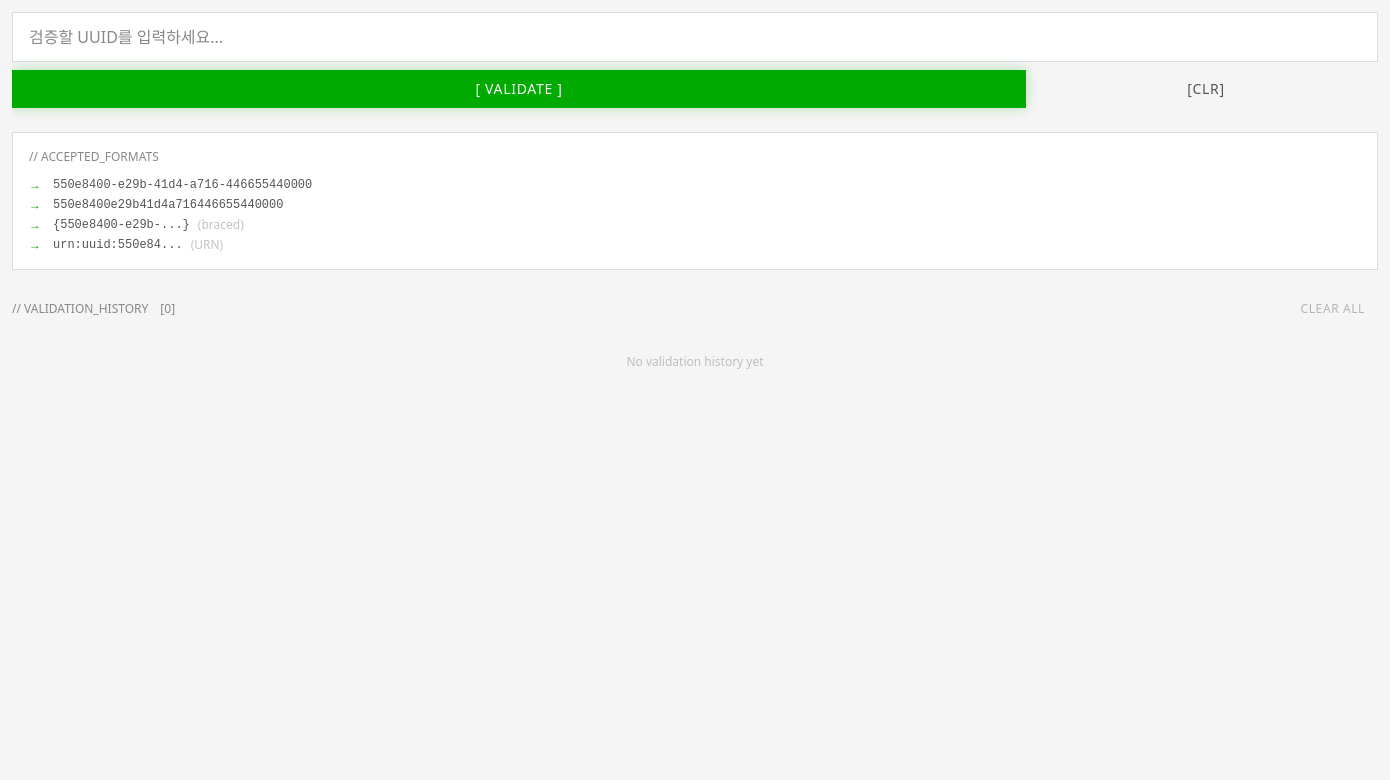
UuidValidator 히스토리 › 히스토리 Clear All 버튼이 동작해야 함
The image size is (1390, 780).
Type "550e8400-e29b-41d4-a716-446655440000" into the field with test id "uuid-input".
click(695, 37); type("550e8400-e29b-41d4-a716-446655440000")  # box 12,12 -> 1378,62
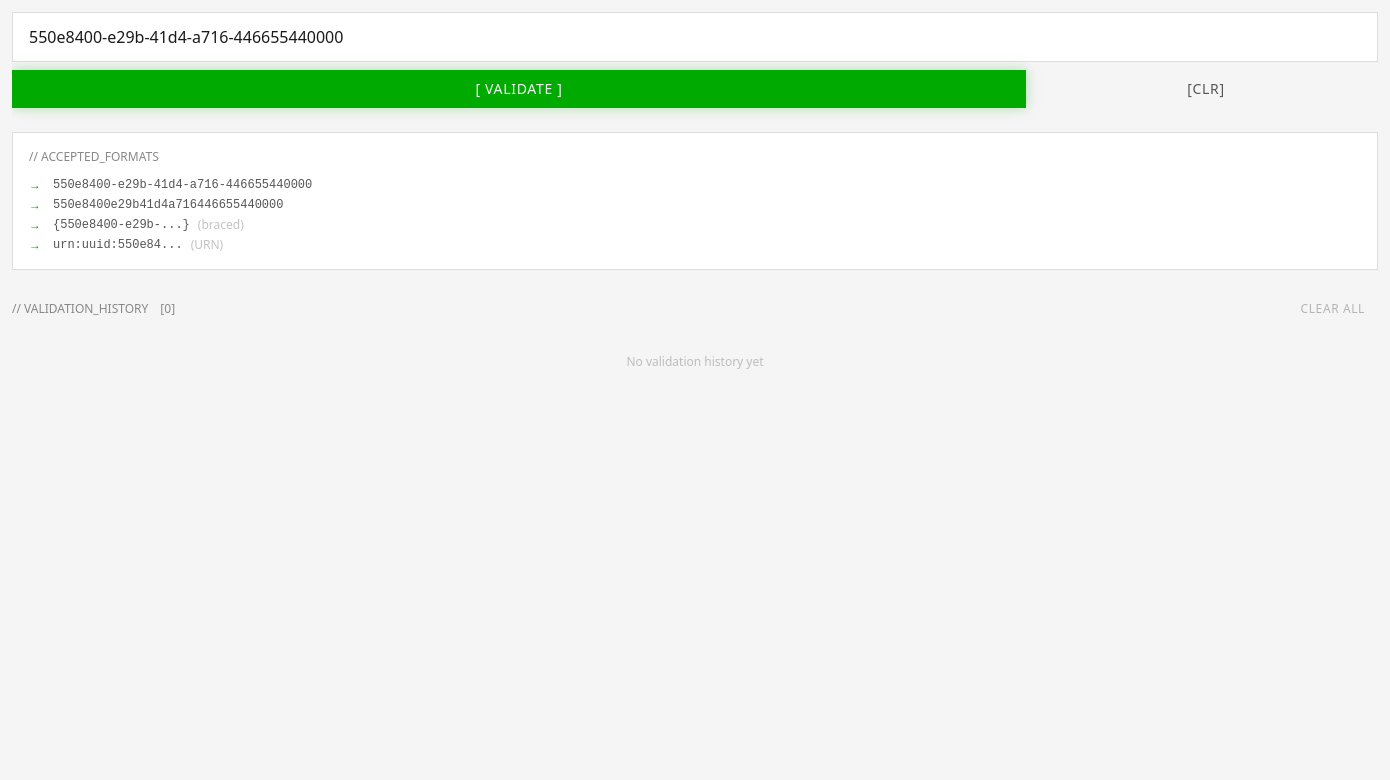
Press Enter in the field with test id "uuid-input", box 12,12 -> 1378,62
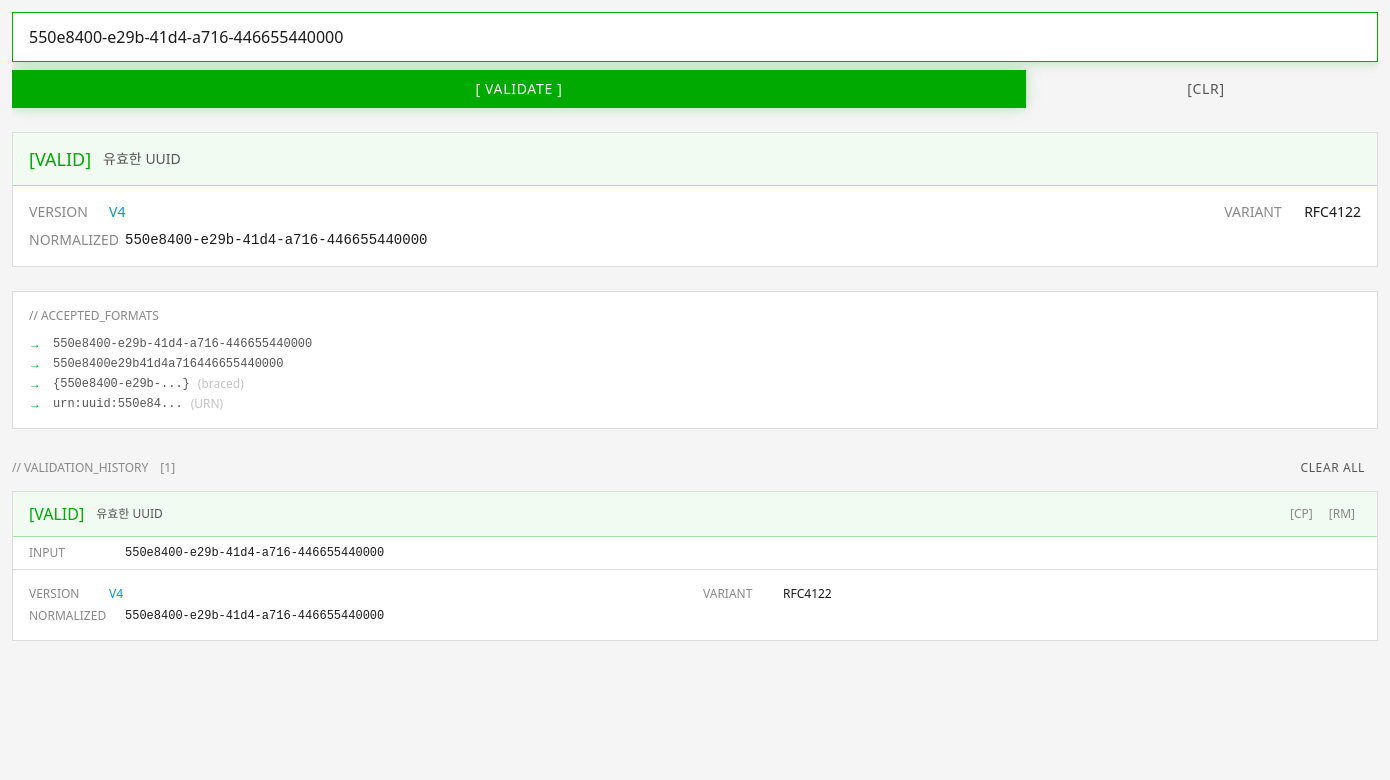
Expected: the text "[1]" is shown, 160,459 -> 175,476
Note: Clear All 버튼 클릭
Click the button "Clear All".
click(1333, 468)  # box 1288,453 -> 1378,483
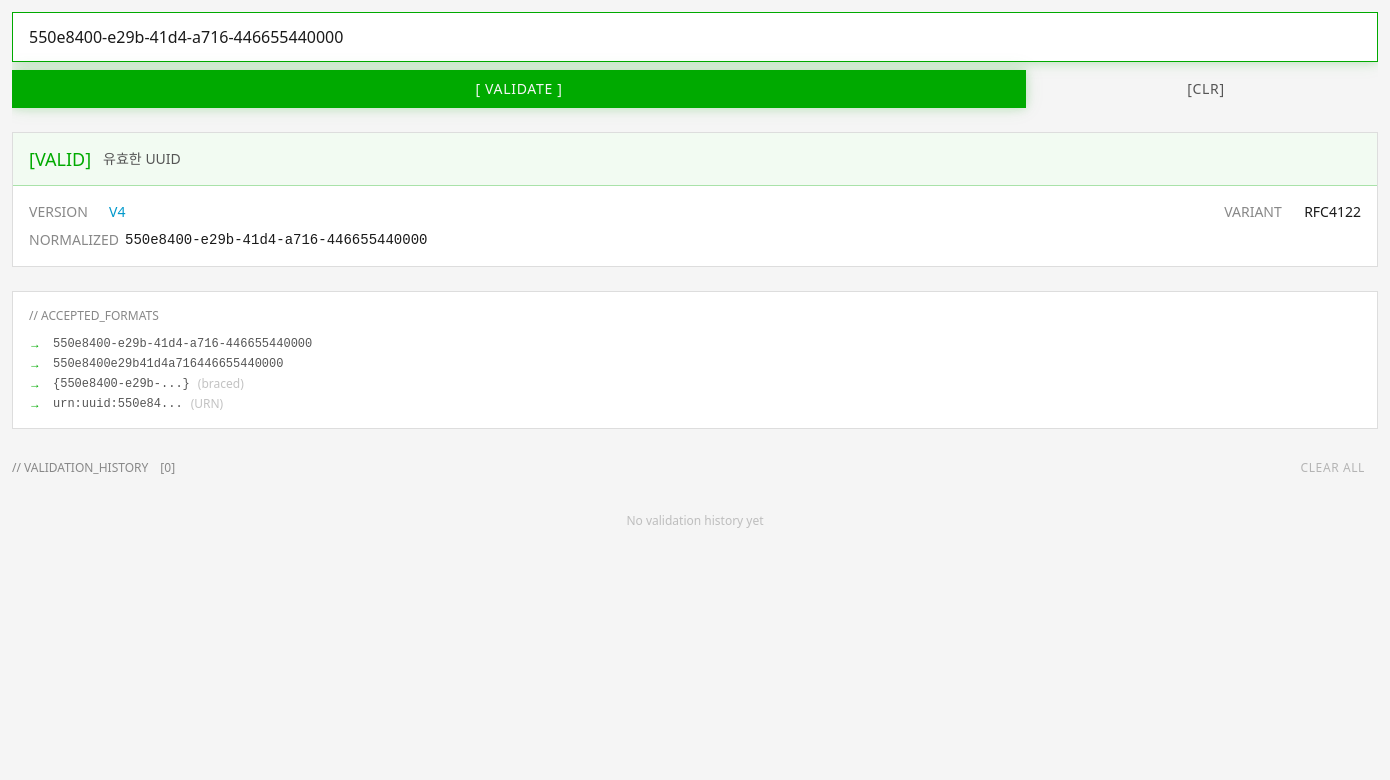
Expected: the text "[0]" is shown, 160,459 -> 175,476
Expected: the text "No validation history yet" is shown, 626,512 -> 764,529
